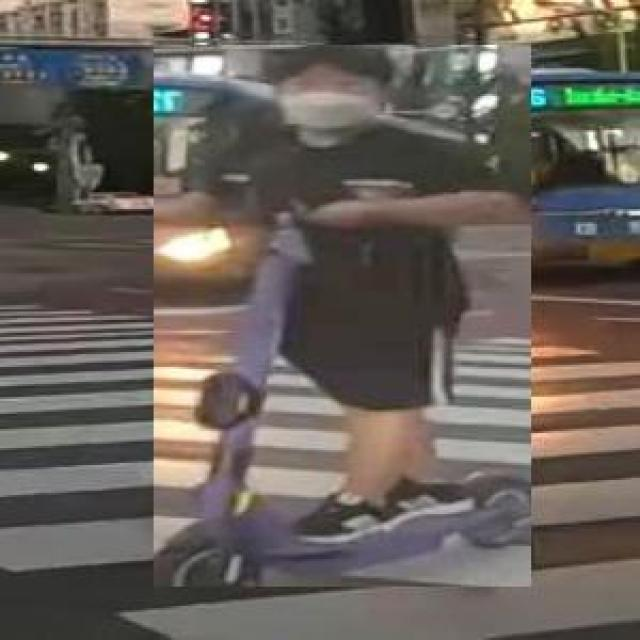pedestrian: (155, 44, 532, 586)
